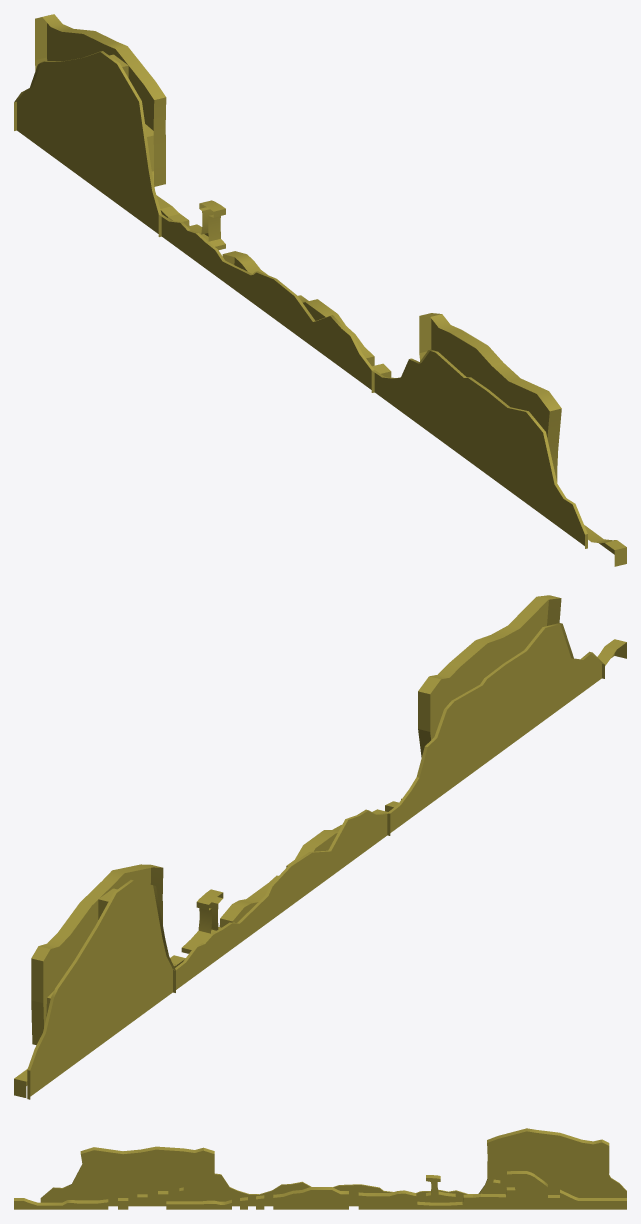
The model's file is Side Scroller Vertical Slice 3 (Sprint 4).fbx.
3 views of the same model, one above another, from view 1: azimuth 30°, elevation 25°; view 2: azimuth 150°, elevation 25°; view 3: azimuth 270°, elevation 25° (orthographic). The views are drawn at different scales.
Parts seen in each view (by area): view 1: polySurface47, polySurface52, polySurface49, polySurface48, polySurface51, polySurface42, polySurface43; view 2: polySurface47, polySurface52, polySurface49, polySurface48, polySurface51, polySurface42, polySurface41; view 3: polySurface48, polySurface52, polySurface51, polySurface47, polySurface50, polySurface41, polySurface43, polySurface49, polySurface46, polySurface44, polySurface42.
Boxes of the visible parts, left/top/right/bottom form: polySurface47: left=14, top=51, right=161, bottom=236; polySurface52: left=371, top=349, right=587, bottom=548; polySurface49: left=158, top=214, right=374, bottom=392; polySurface48: left=419, top=313, right=561, bottom=481; polySurface51: left=35, top=14, right=166, bottom=186; polySurface42: left=188, top=200, right=225, bottom=250; polySurface43: left=298, top=295, right=374, bottom=366; polySurface47: left=27, top=880, right=175, bottom=1099; polySurface52: left=387, top=623, right=604, bottom=835; polySurface49: left=173, top=809, right=389, bottom=992; polySurface48: left=418, top=595, right=561, bottom=757; polySurface51: left=31, top=864, right=163, bottom=1045; polySurface42: left=181, top=889, right=223, bottom=953; polySurface41: left=170, top=875, right=278, bottom=967; polySurface48: left=80, top=1146, right=214, bottom=1195; polySurface52: left=40, top=1164, right=259, bottom=1206; polySurface51: left=487, top=1128, right=609, bottom=1191; polySurface47: left=478, top=1141, right=626, bottom=1197; polySurface50: left=472, top=1171, right=626, bottom=1209; polySurface41: left=358, top=1190, right=472, bottom=1209; polySurface43: left=273, top=1187, right=348, bottom=1209; polySurface49: left=259, top=1181, right=477, bottom=1206; polySurface46: left=14, top=1198, right=108, bottom=1209; polySurface44: left=166, top=1200, right=231, bottom=1209; polySurface42: left=426, top=1175, right=455, bottom=1199.
Size of the model in its own units: 5.6 by 50.31 by 357.
